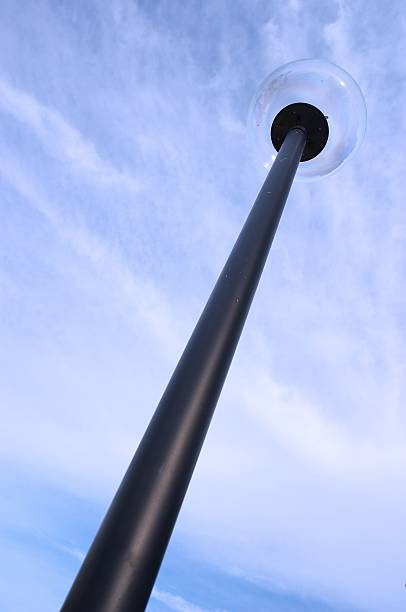light_pole: (61, 128, 300, 612)
